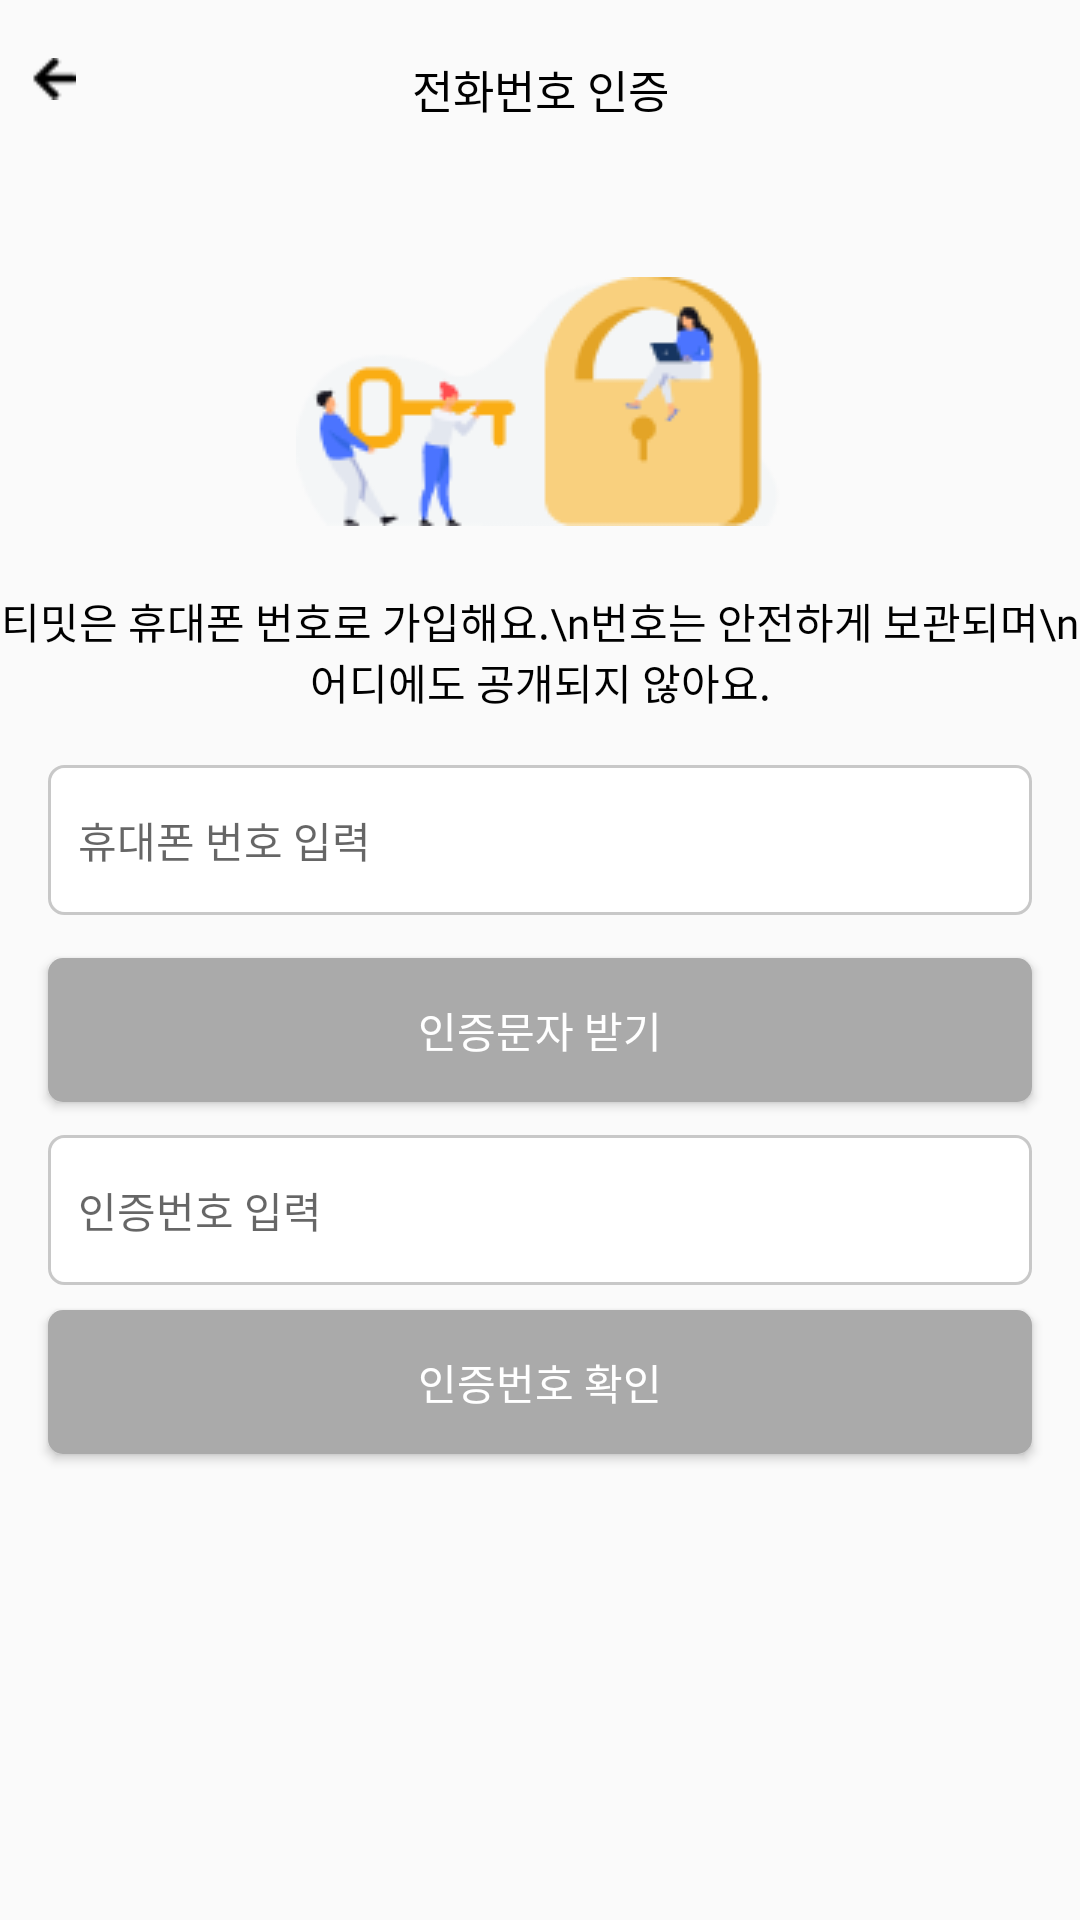

Where icons sit on this 1080px×1920px app screen, as [x1, y1, x2, y2]:
back arrow: [33, 58, 76, 100]
